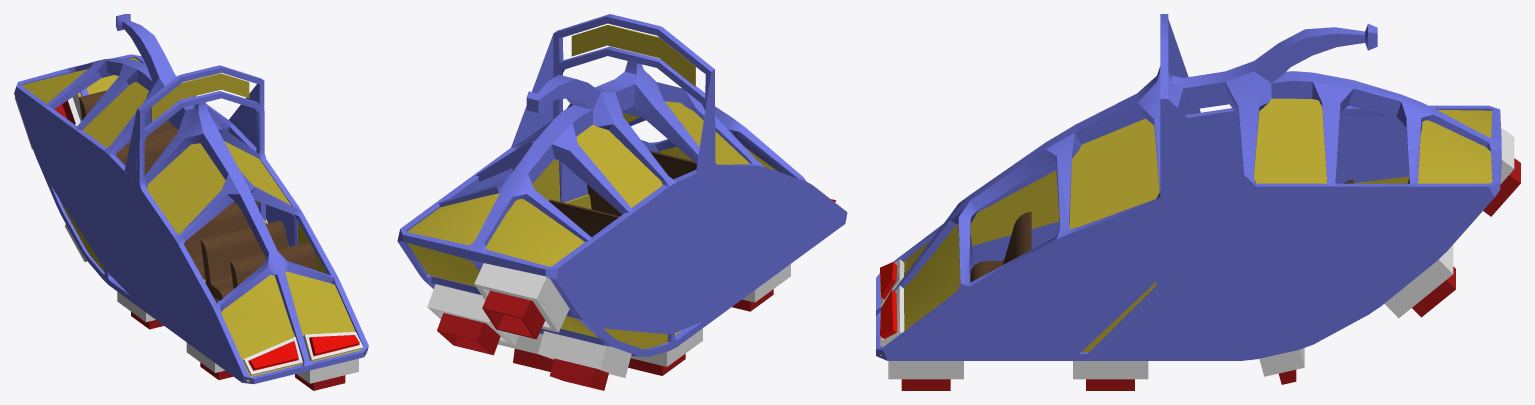
The model's file is minibus volador bin.fbx.
3 renders of one model, left to right at view 1: azimuth 30°, elevation 25°; view 2: azimuth 150°, elevation 25°; view 3: azimuth 270°, elevation 25°, orthographic. The views are drawn at different scales.
Visible parts, largest first — view 1: Cube.001; view 2: Cube.001; view 3: Cube.001.
Boxes of the visible parts, x1,y1,x2,y2 form: Cube.001: (14, 14, 368, 390); Cube.001: (397, 14, 847, 390); Cube.001: (876, 14, 1520, 390).
Bounding box in the file's own units: 208 × 399 × 699.
